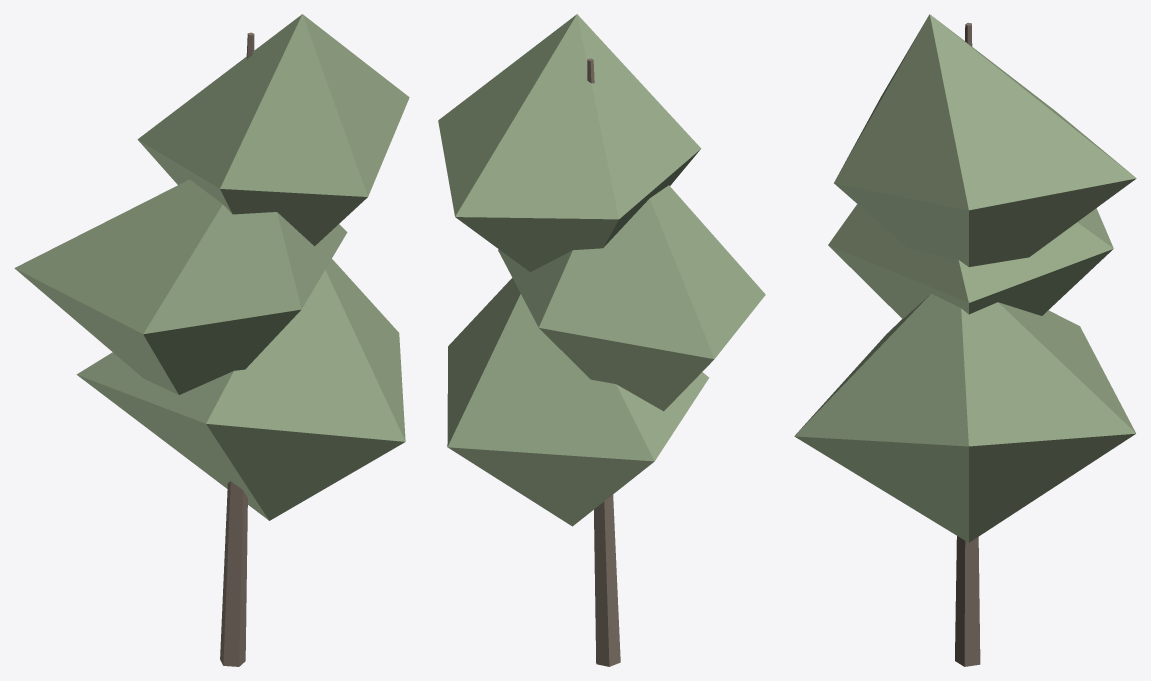
3 renders of one model, left to right at view 1: azimuth 30°, elevation 25°; view 2: azimuth 150°, elevation 25°; view 3: azimuth 270°, elevation 25°, orthographic. The views are drawn at different scales.
Bounding box in the file's own units: 2.77 × 5.02 × 2.32.
